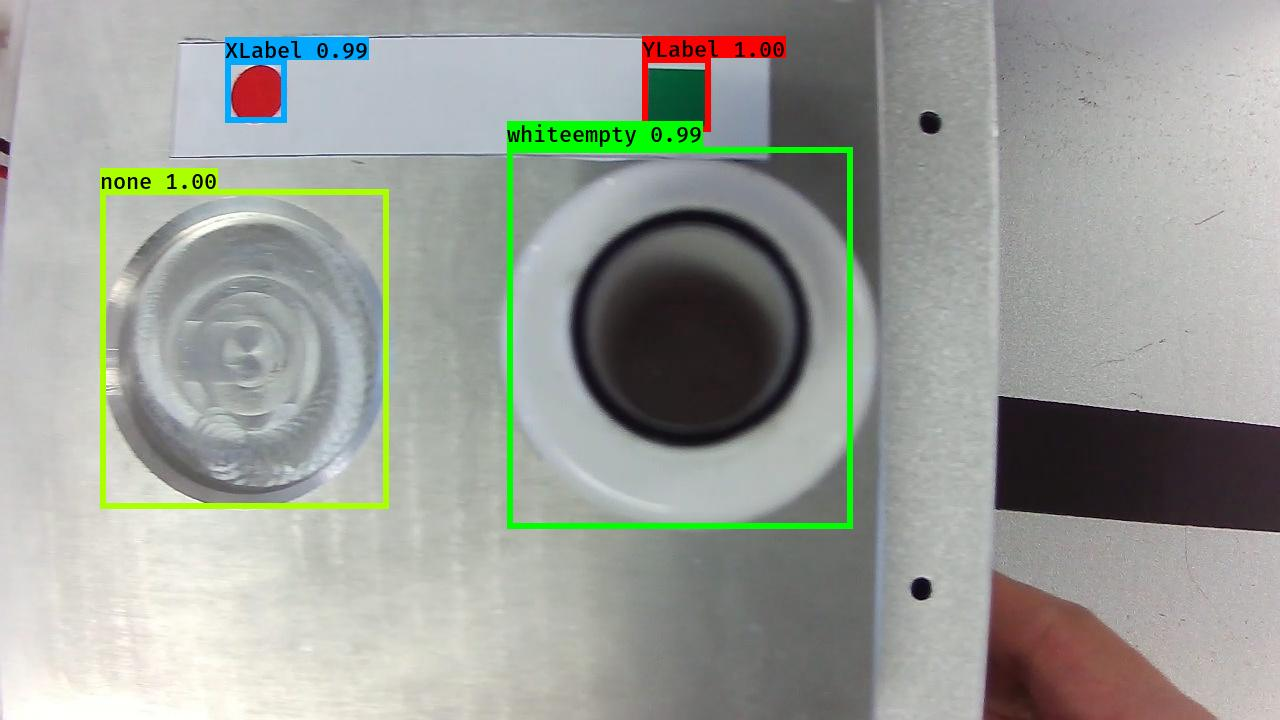XLabel: (229, 63, 286, 125)
YLabel: (645, 66, 710, 132)
none: (98, 195, 396, 509)
whiteempty: (494, 157, 881, 535)
